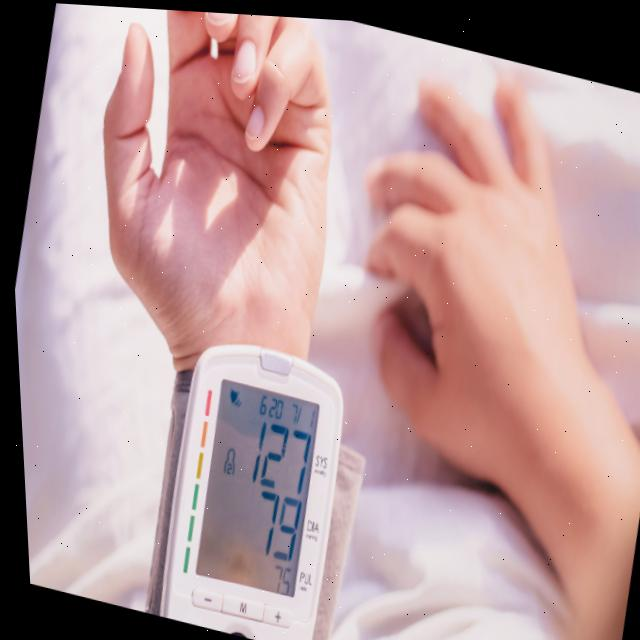dia: (239, 482, 303, 568)
pul: (260, 556, 292, 596)
ssd: (187, 372, 316, 594)
sys: (240, 411, 313, 495)
